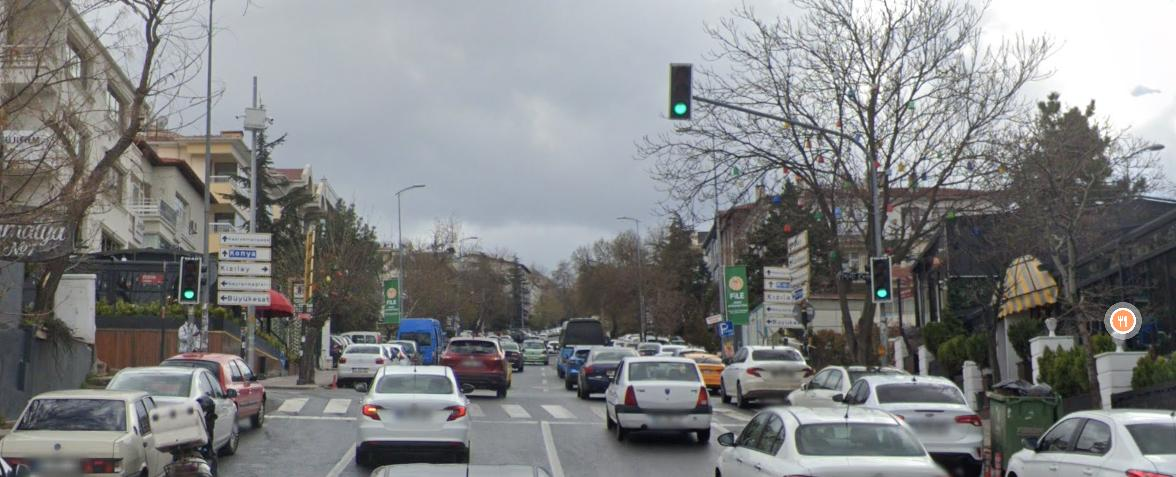greenlight: (669, 66, 692, 119), (872, 256, 891, 303)
